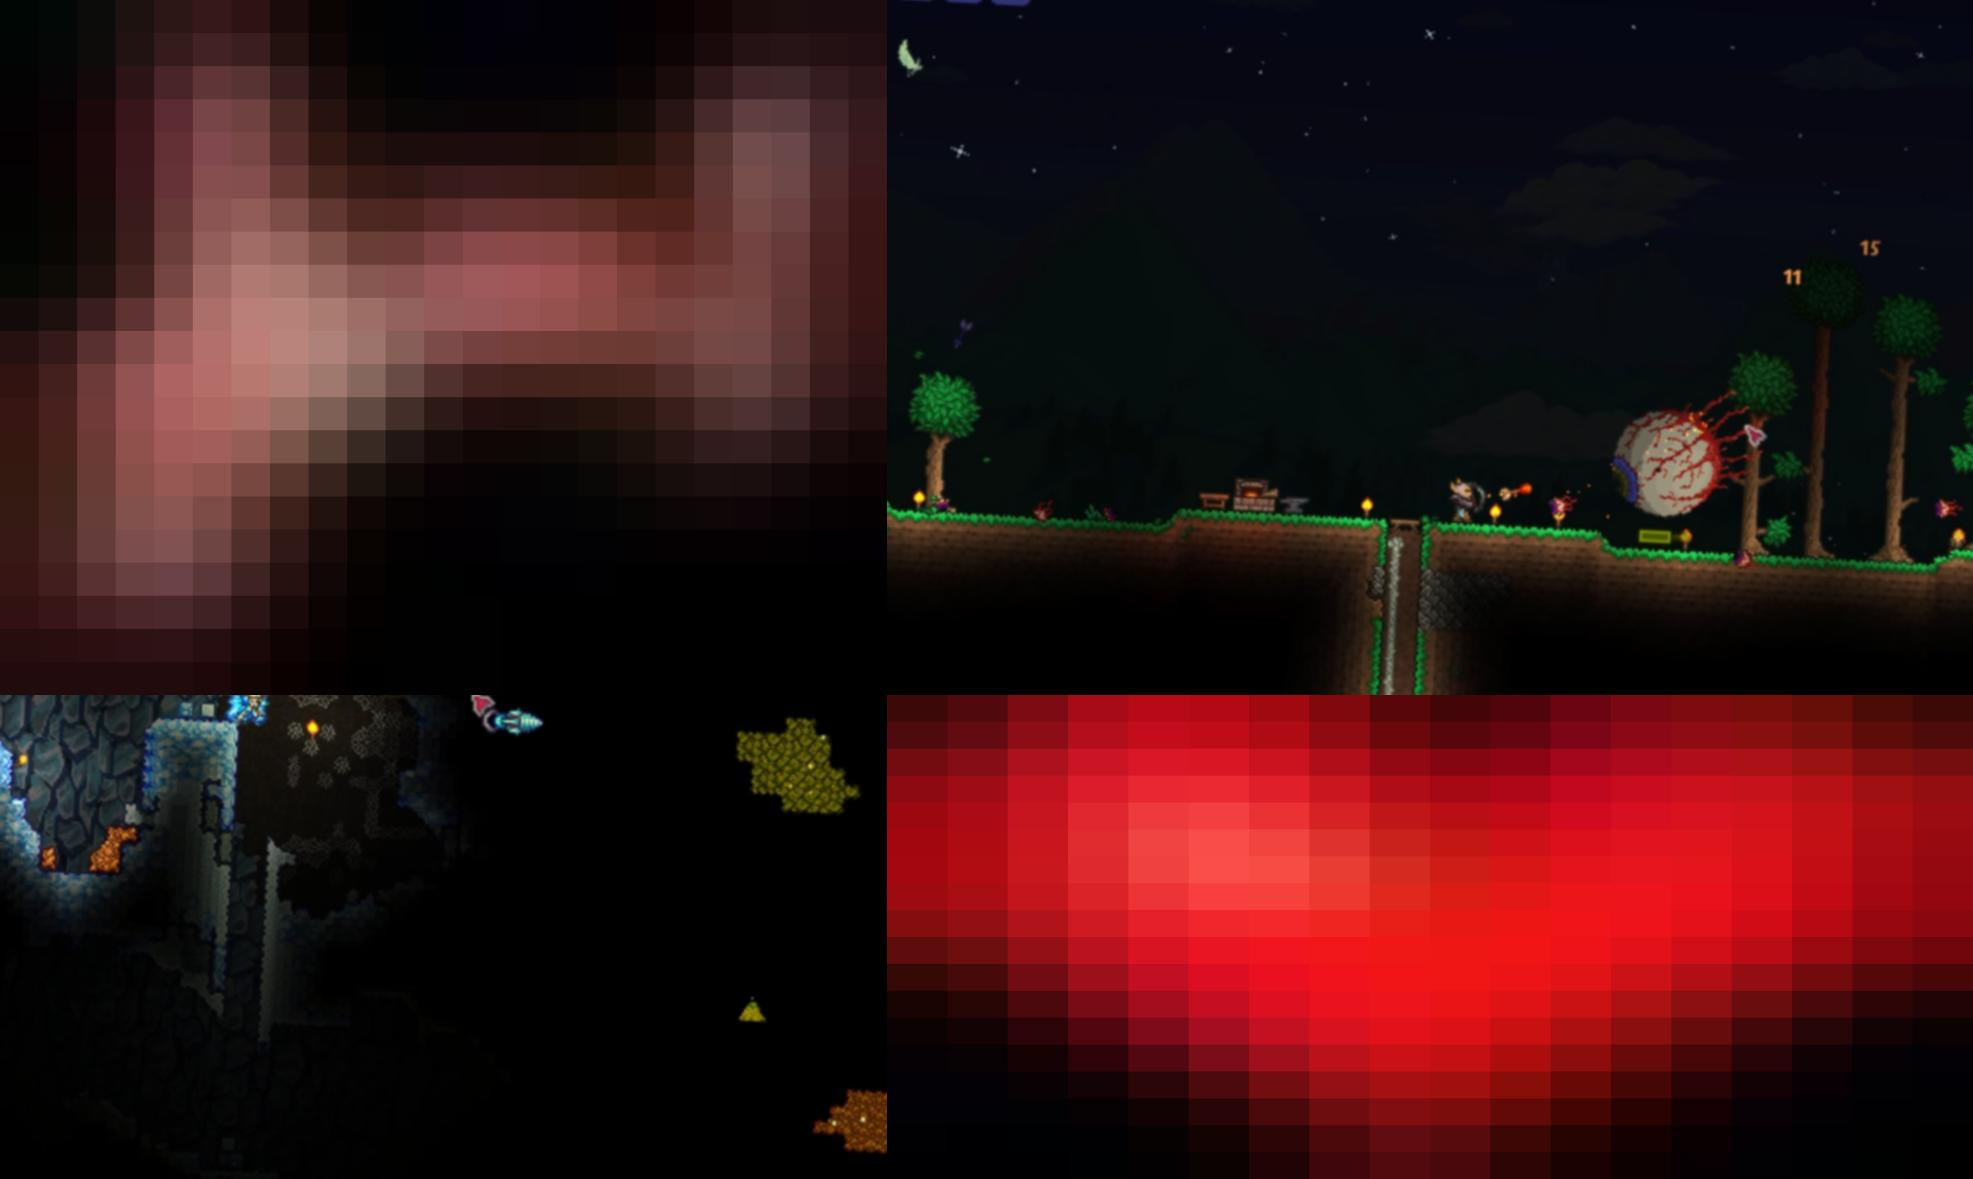cobwebT: (288, 717, 303, 740)
eyeC: (1598, 380, 1770, 528)
heart: (887, 695, 1973, 1179)
helmet: (0, 0, 887, 695)
